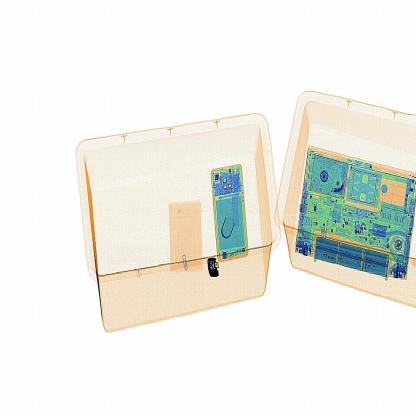pliers: (205, 254, 225, 280)
